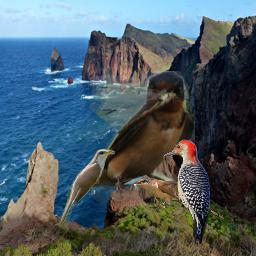Cuckoo: (57, 149, 115, 229), (131, 178, 226, 220)
Swallow: (77, 71, 195, 205)
Woodpecker: (163, 139, 210, 244)
